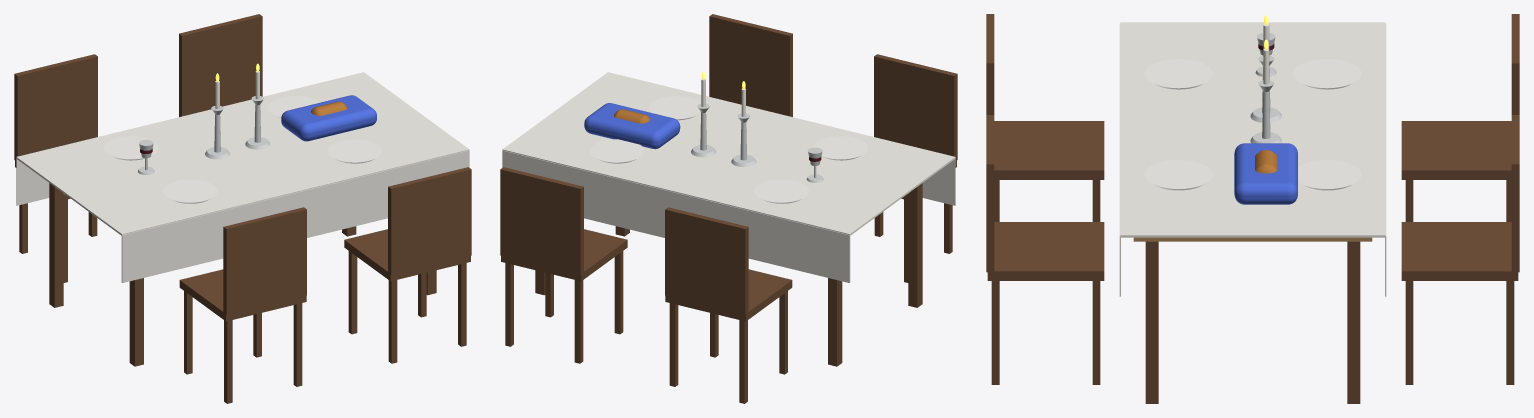
File: shabbatTable.glb
3 views of the same model, side by side, from view 1: azimuth 30°, elevation 25°; view 2: azimuth 150°, elevation 25°; view 3: azimuth 270°, elevation 25° (orthographic). The views are drawn at different scales.
Visible parts, largest first — view 1: shabbatTable, cloth, challahCover, candles; view 2: shabbatTable, cloth, challahCover, candles; view 3: shabbatTable, cloth, challahCover, top, candles, challah.
Boxes of the visible parts, left/top/right/bottom form: shabbatTable: left=14, top=14, right=471, bottom=403; cloth: left=16, top=72, right=469, bottom=235; challahCover: left=281, top=95, right=376, bottom=141; candles: left=205, top=96, right=270, bottom=159; shabbatTable: left=500, top=14, right=957, bottom=403; cloth: left=502, top=72, right=955, bottom=235; challahCover: left=584, top=103, right=680, bottom=149; candles: left=691, top=103, right=756, bottom=167; shabbatTable: left=986, top=14, right=1519, bottom=403; cloth: left=1120, top=22, right=1385, bottom=237; challahCover: left=1234, top=143, right=1297, bottom=204; top: left=1133, top=237, right=1372, bottom=241; candles: left=1250, top=55, right=1281, bottom=143; challah: left=1255, top=150, right=1277, bottom=173.
Size of the model in its own units: 1.9 by 1.18 by 2.01.
